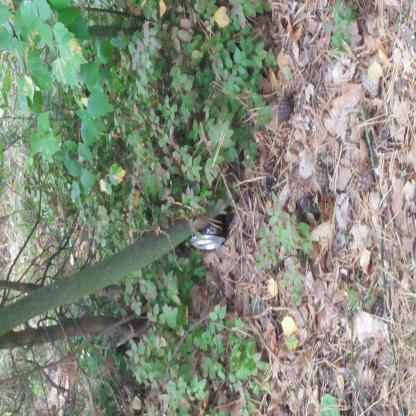trash: (115, 239, 158, 309)
